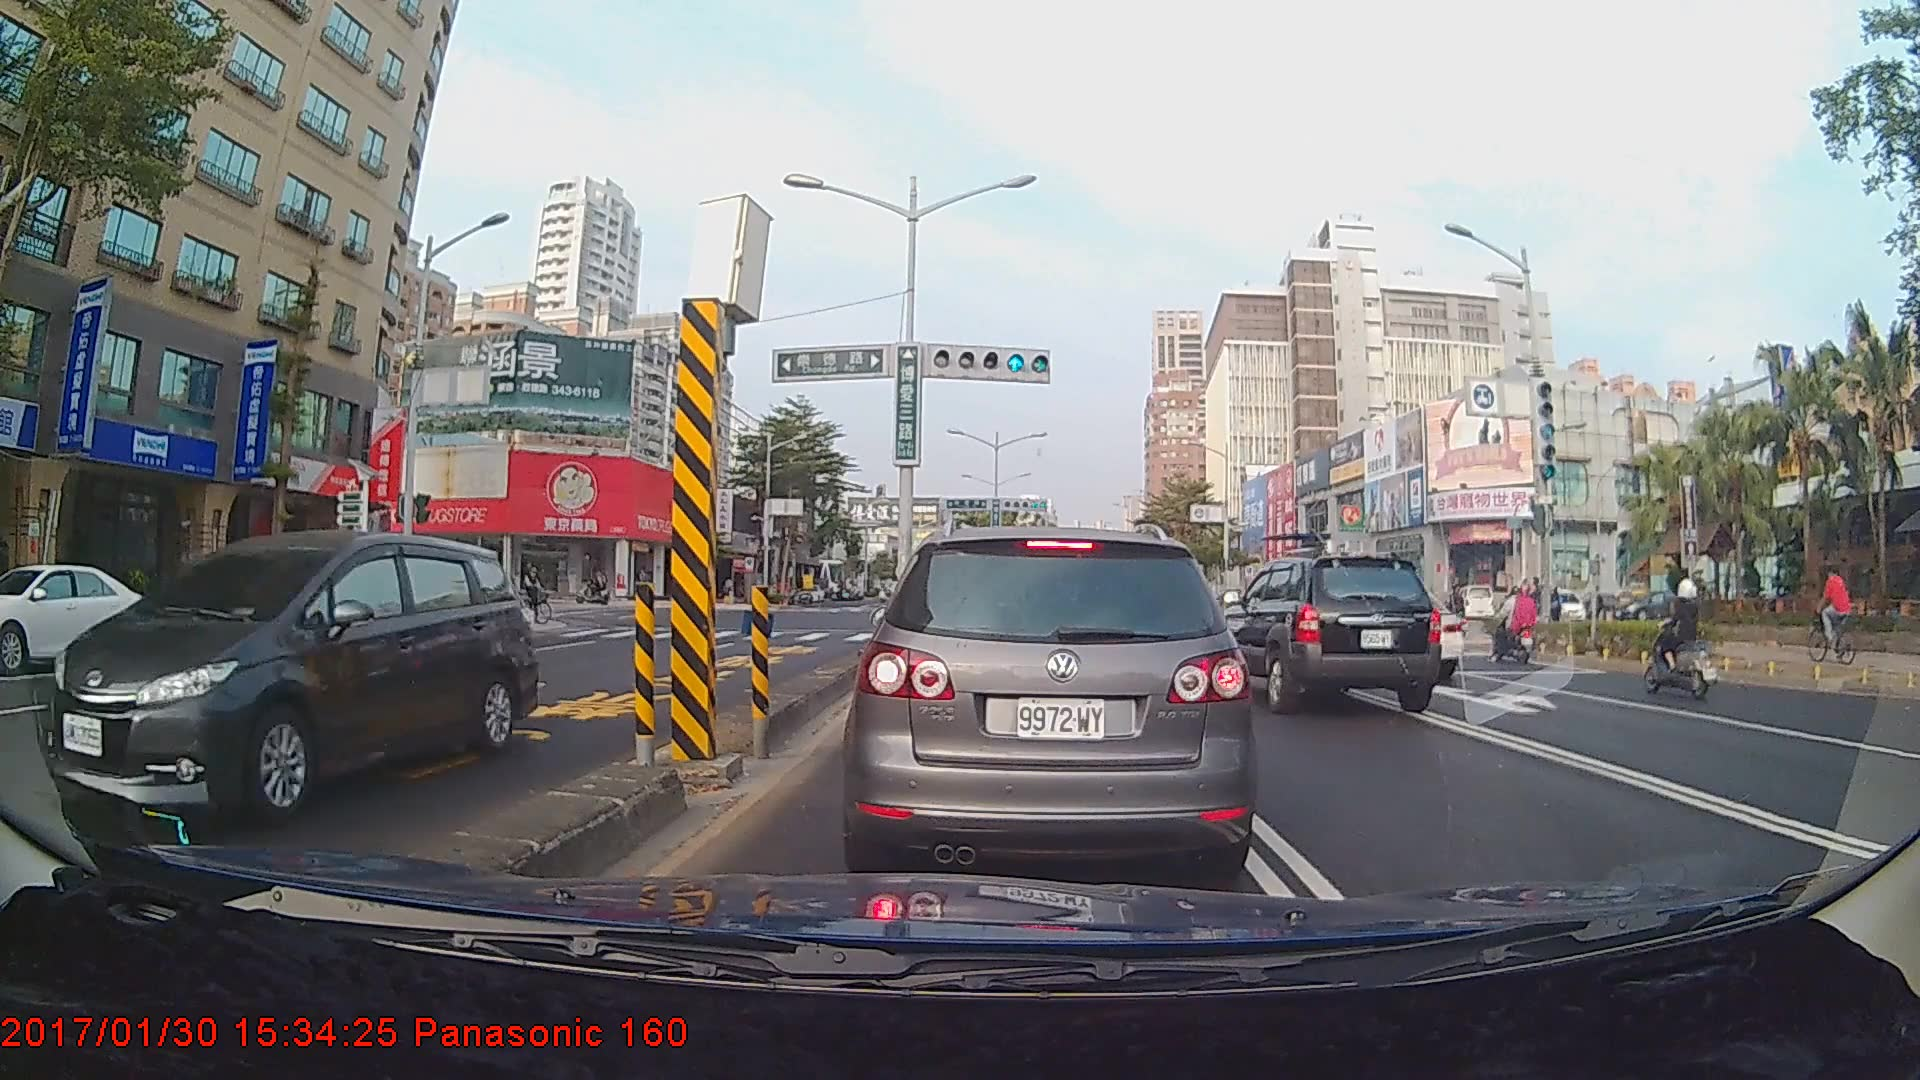pedestrian: (1586, 581, 1608, 640)
rider: (1646, 574, 1715, 707), (1485, 582, 1548, 668), (1802, 567, 1855, 662), (572, 563, 618, 611)
vehicle: (43, 527, 538, 829), (855, 520, 1249, 881), (1201, 548, 1446, 715), (0, 561, 155, 671)
